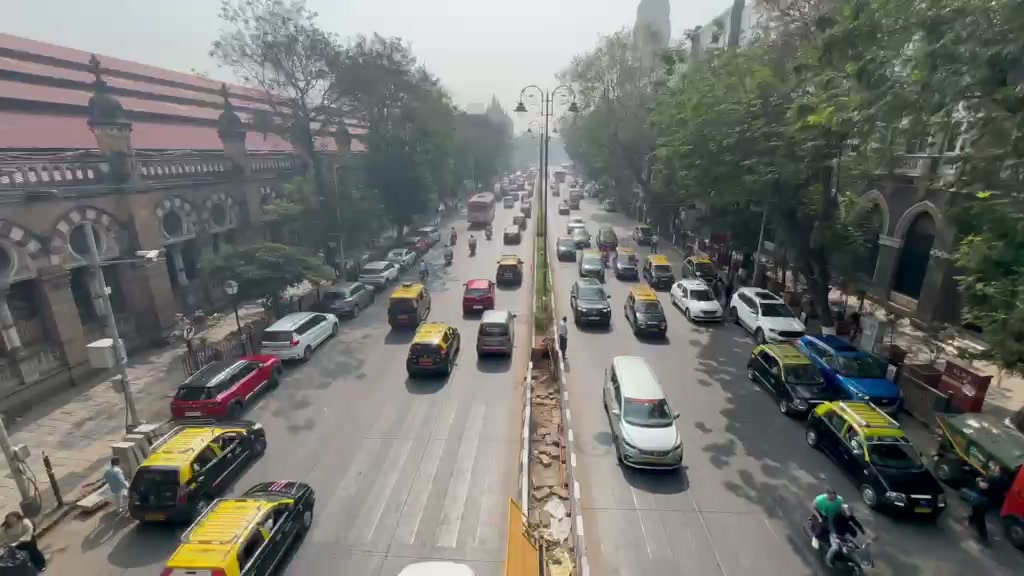car: (803, 397, 949, 521), (126, 420, 271, 524), (160, 479, 316, 575), (745, 339, 876, 421), (603, 354, 684, 470), (796, 333, 904, 413), (932, 410, 1024, 494), (169, 352, 282, 420), (747, 341, 840, 421), (258, 310, 338, 364), (731, 286, 808, 342), (406, 322, 461, 378), (670, 278, 726, 324), (314, 280, 375, 321), (624, 287, 669, 341), (998, 461, 1024, 551), (386, 279, 432, 327), (571, 281, 613, 330), (476, 309, 515, 357), (357, 258, 401, 289), (462, 277, 496, 317), (578, 249, 606, 282), (613, 250, 641, 281), (556, 238, 577, 262)
motorcycle: (813, 520, 877, 573), (823, 527, 876, 574)
pedestrian: (1, 511, 47, 572), (810, 488, 850, 538), (103, 456, 129, 514)
truck: (804, 398, 948, 521), (127, 421, 268, 524), (642, 253, 677, 289), (466, 190, 496, 229)
